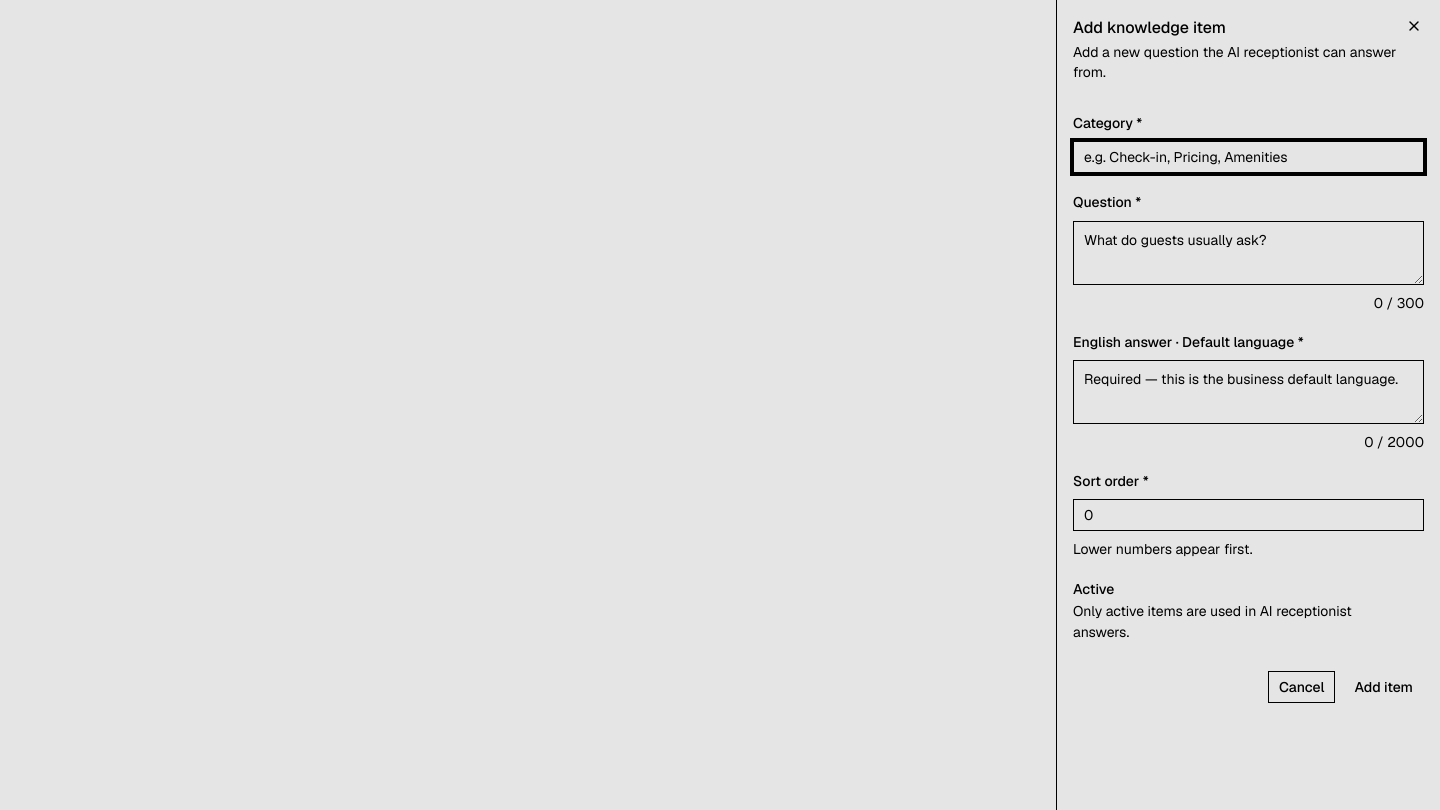
KnowledgeItemSheet — create › disables Cancel and shows a loading submit button while saving
The width and height of the screenshot is (1440, 810).
Type "Check-in" into the field labelled "Category *" at (1248, 157), box [1073,141,1424,173]
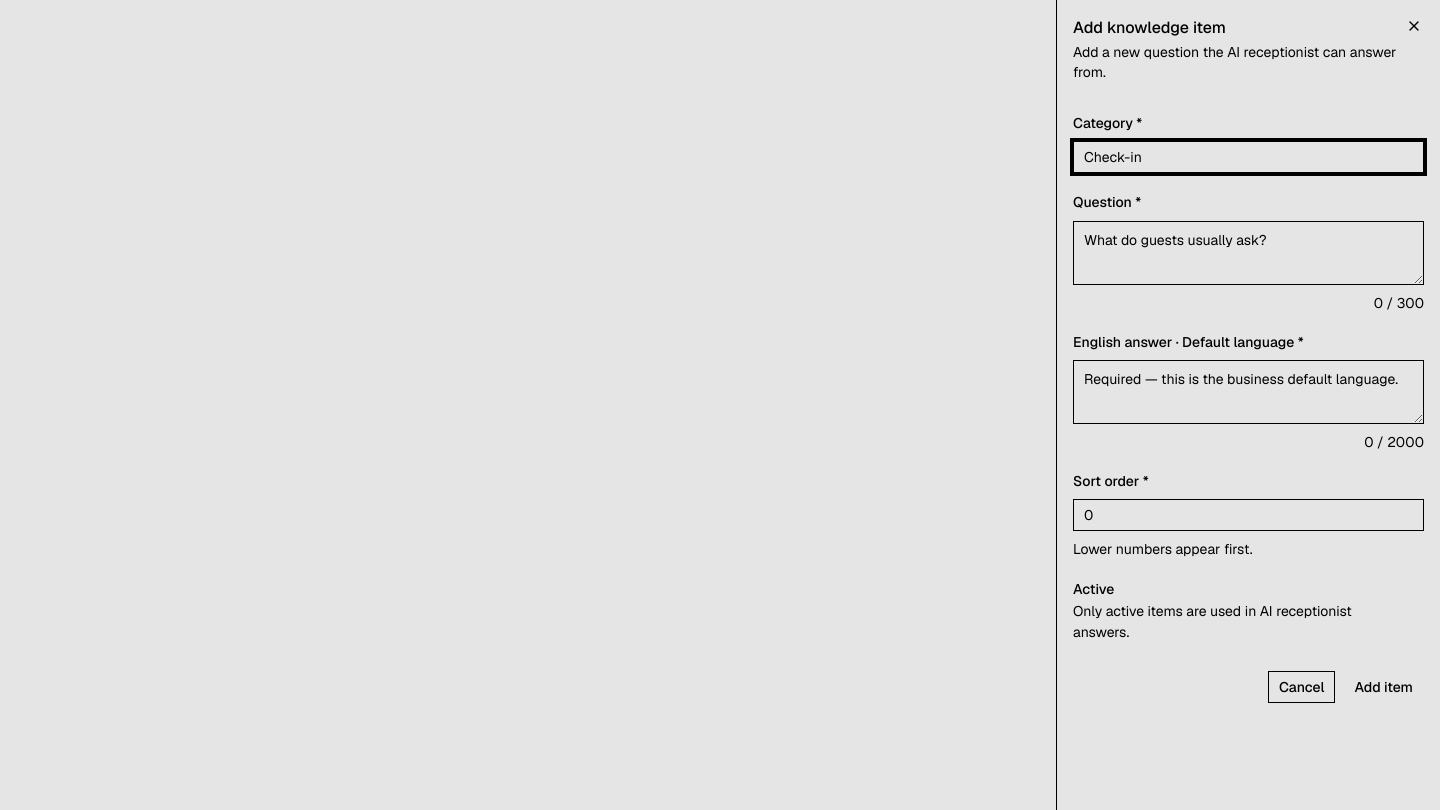
Type "What time?" into the text box labelled "Question *" at (1248, 252), box [1073,220,1424,284]
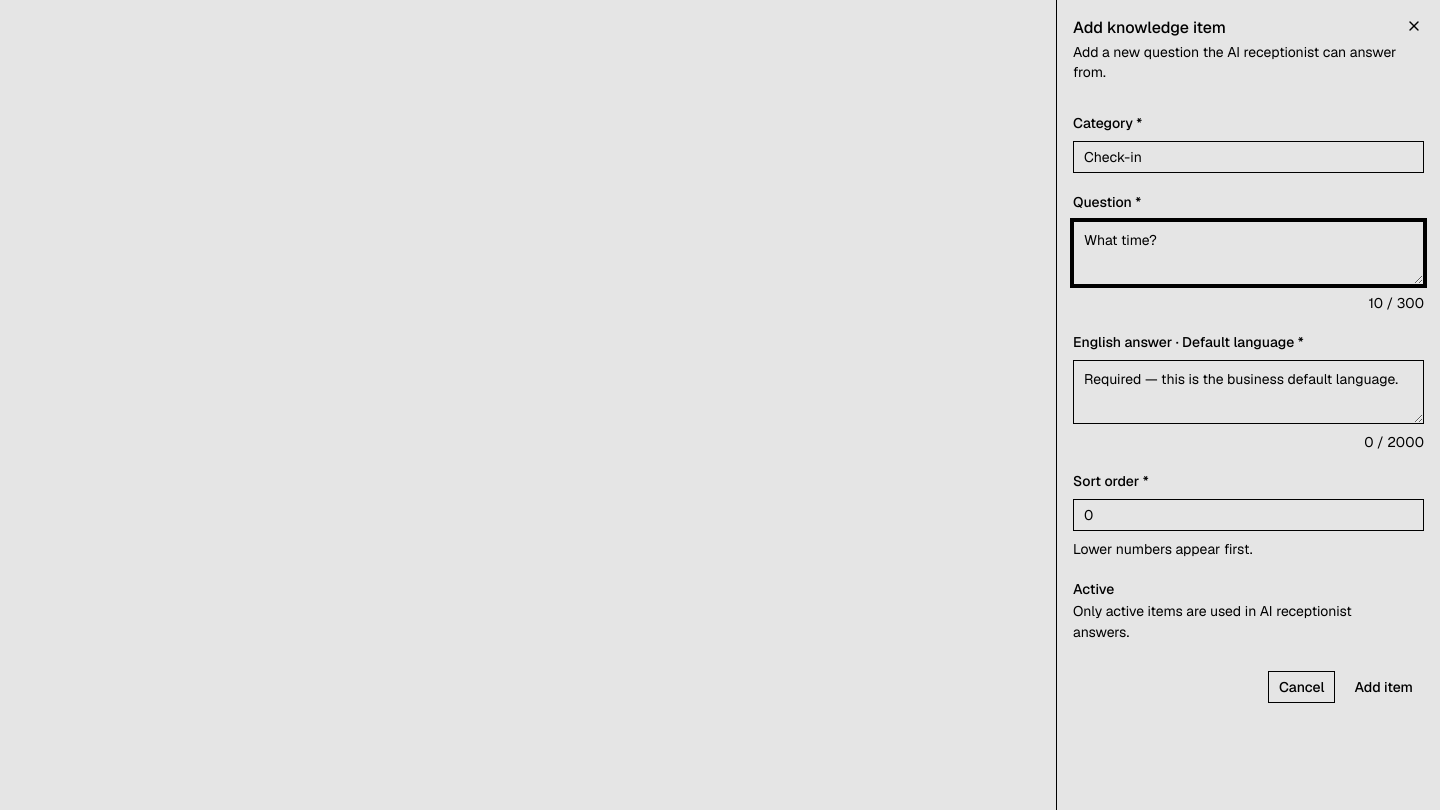
Type "3pm" into the text box labelled "English answer · Default language *" at (1248, 392), box [1073,360,1424,424]
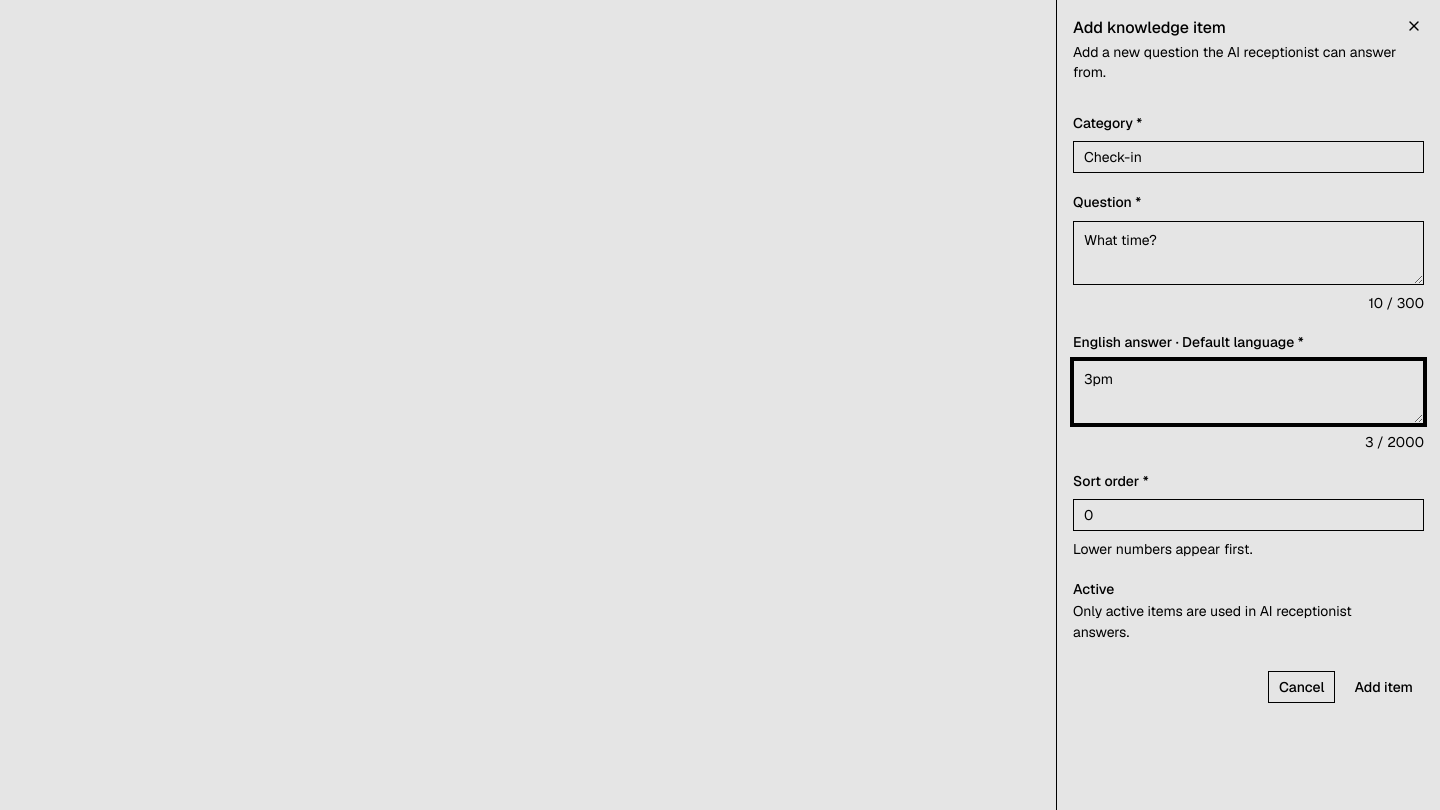
Click the button "Add item" at (1384, 687), box [1343,671,1424,703]
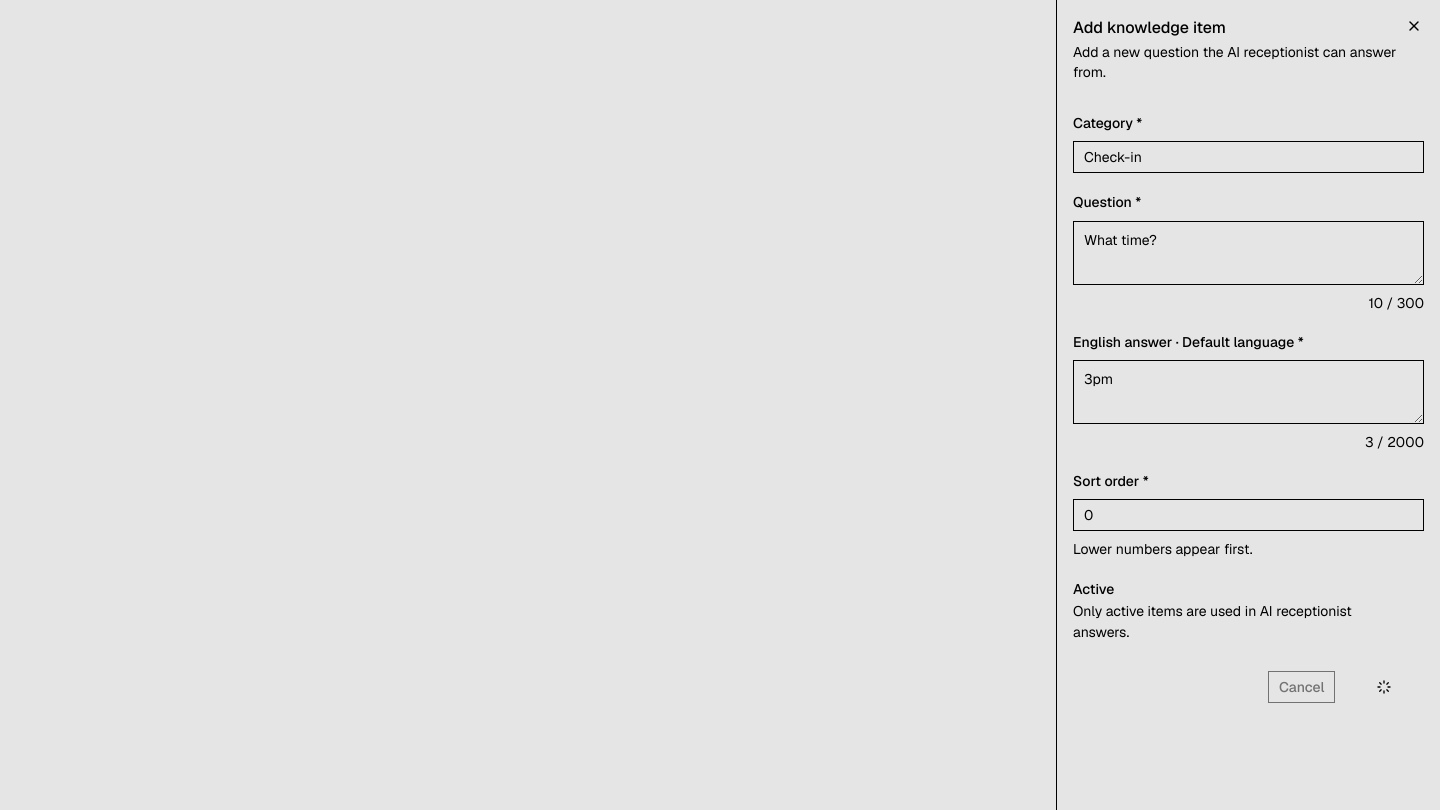
expect the button "Cancel" is disabled: met, box [1268,671,1336,703]
